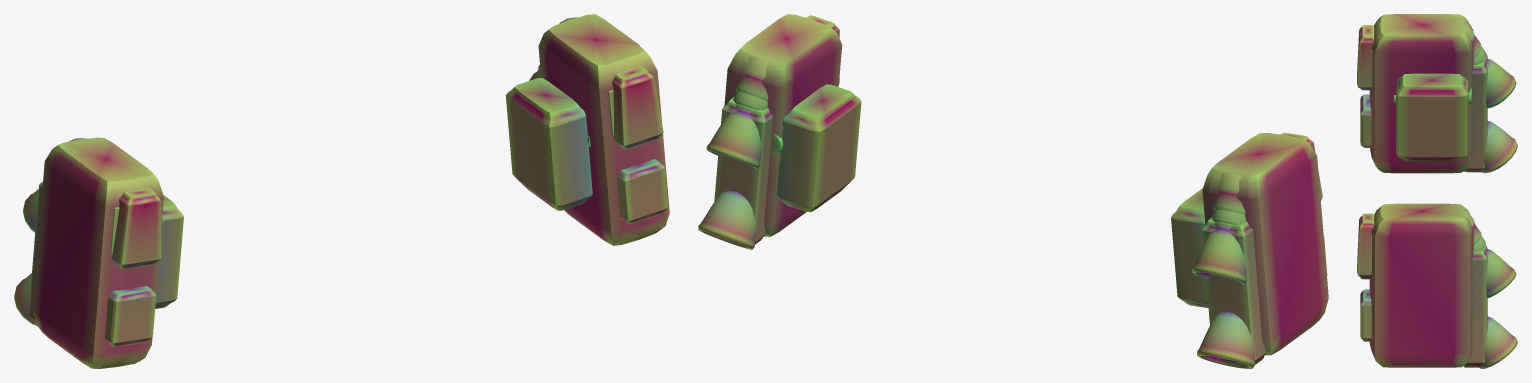
File: llm_gen_leg_thrusters_087_176ef6.glb
The picture shows the model from 3 angles, left to right: view 1: azimuth 30°, elevation 25°; view 2: azimuth 150°, elevation 25°; view 3: azimuth 270°, elevation 25°; orthographic projection. The views are drawn at different scales.
Visible parts, largest first — view 1: outer_shin_armor_0_crimson_gloss_l, outer_shin_armor_0_crimson_gloss_r, adapter_calf_clamp_r, knee_guard_blade_2_amber_optic_l, knee_guard_blade_2_amber_optic_r, lower_shin_bumper_4_gold_l, lower_shin_bumper_4_gold_r, adapter_calf_clamp_l, rear_thruster_manifold_dark_5_adapter_dark_l, rear_surge_bell_bot_7_vernier_bell_vernier_l; view 2: outer_shin_armor_0_crimson_gloss_l, outer_shin_armor_0_crimson_gloss_r, adapter_calf_clamp_r, rear_thruster_manifold_dark_5_adapter_dark_l, rear_thruster_manifold_dark_5_adapter_dark_r, adapter_calf_clamp_l, rear_surge_bell_bot_7_vernier_bell_vernier_l, rear_surge_bell_bot_7_vernier_bell_vernier_r, rear_surge_bell_top_6_vernier_bell_vernier_r, rear_surge_bell_top_6_vernier_bell_vernier_l, rear_surge_bell_top_6_vernier_bell_gimbal_collar_dark_r, rear_surge_bell_top_6_vernier_bell_gimbal_collar_dark_l; view 3: outer_shin_armor_0_crimson_gloss_r, outer_shin_armor_0_crimson_gloss_l, adapter_calf_clamp_l, rear_thruster_manifold_dark_5_adapter_dark_r, rear_thruster_manifold_dark_5_adapter_dark_l, rear_surge_bell_bot_7_vernier_bell_vernier_l, rear_surge_bell_bot_7_vernier_bell_vernier_r, rear_surge_bell_top_6_vernier_bell_vernier_l, rear_surge_bell_top_6_vernier_bell_vernier_r, knee_guard_blade_2_amber_optic_l, knee_guard_blade_2_amber_optic_r, lower_shin_bumper_4_gold_l (+3 smaller).
Boxes of the visible parts, <box> form: outer_shin_armor_0_crimson_gloss_l: <box>32,137,163,368</box>; outer_shin_armor_0_crimson_gloss_r: <box>538,14,669,245</box>; adapter_calf_clamp_r: <box>505,78,592,210</box>; knee_guard_blade_2_amber_optic_l: <box>111,188,161,269</box>; knee_guard_blade_2_amber_optic_r: <box>612,66,663,149</box>; lower_shin_bumper_4_gold_l: <box>105,286,156,346</box>; lower_shin_bumper_4_gold_r: <box>617,159,668,223</box>; adapter_calf_clamp_l: <box>155,195,183,308</box>; rear_thruster_manifold_dark_5_adapter_dark_l: <box>29,182,42,326</box>; rear_surge_bell_bot_7_vernier_bell_vernier_l: <box>14,273,35,325</box>; outer_shin_armor_0_crimson_gloss_l: <box>1202,133,1328,355</box>; outer_shin_armor_0_crimson_gloss_r: <box>724,14,842,236</box>; adapter_calf_clamp_r: <box>776,84,861,212</box>; rear_thruster_manifold_dark_5_adapter_dark_l: <box>1202,217,1266,366</box>; rear_thruster_manifold_dark_5_adapter_dark_r: <box>714,97,773,244</box>; adapter_calf_clamp_l: <box>1171,188,1208,308</box>; rear_surge_bell_bot_7_vernier_bell_vernier_l: <box>1197,311,1255,368</box>; rear_surge_bell_bot_7_vernier_bell_vernier_r: <box>698,190,755,249</box>; rear_surge_bell_top_6_vernier_bell_vernier_r: <box>706,103,760,168</box>; rear_surge_bell_top_6_vernier_bell_vernier_l: <box>1192,222,1247,284</box>; rear_surge_bell_top_6_vernier_bell_gimbal_collar_dark_r: <box>736,57,769,101</box>; rear_surge_bell_top_6_vernier_bell_gimbal_collar_dark_l: <box>1213,173,1245,214</box>; outer_shin_armor_0_crimson_gloss_r: <box>1369,203,1473,367</box>; outer_shin_armor_0_crimson_gloss_l: <box>1369,14,1473,173</box>; adapter_calf_clamp_l: <box>1396,73,1468,161</box>; rear_thruster_manifold_dark_5_adapter_dark_r: <box>1463,247,1487,367</box>; rear_thruster_manifold_dark_5_adapter_dark_l: <box>1464,53,1487,172</box>; rear_surge_bell_bot_7_vernier_bell_vernier_l: <box>1481,121,1517,173</box>; rear_surge_bell_bot_7_vernier_bell_vernier_r: <box>1479,316,1517,368</box>; rear_surge_bell_top_6_vernier_bell_vernier_l: <box>1483,55,1516,108</box>; rear_surge_bell_top_6_vernier_bell_vernier_r: <box>1483,244,1516,298</box>; knee_guard_blade_2_amber_optic_l: <box>1357,25,1374,90</box>; knee_guard_blade_2_amber_optic_r: <box>1357,213,1374,279</box>; lower_shin_bumper_4_gold_l: <box>1360,94,1371,147</box>.
Size of the model in its own units: 79.12 by 25.32 by 24.4.
